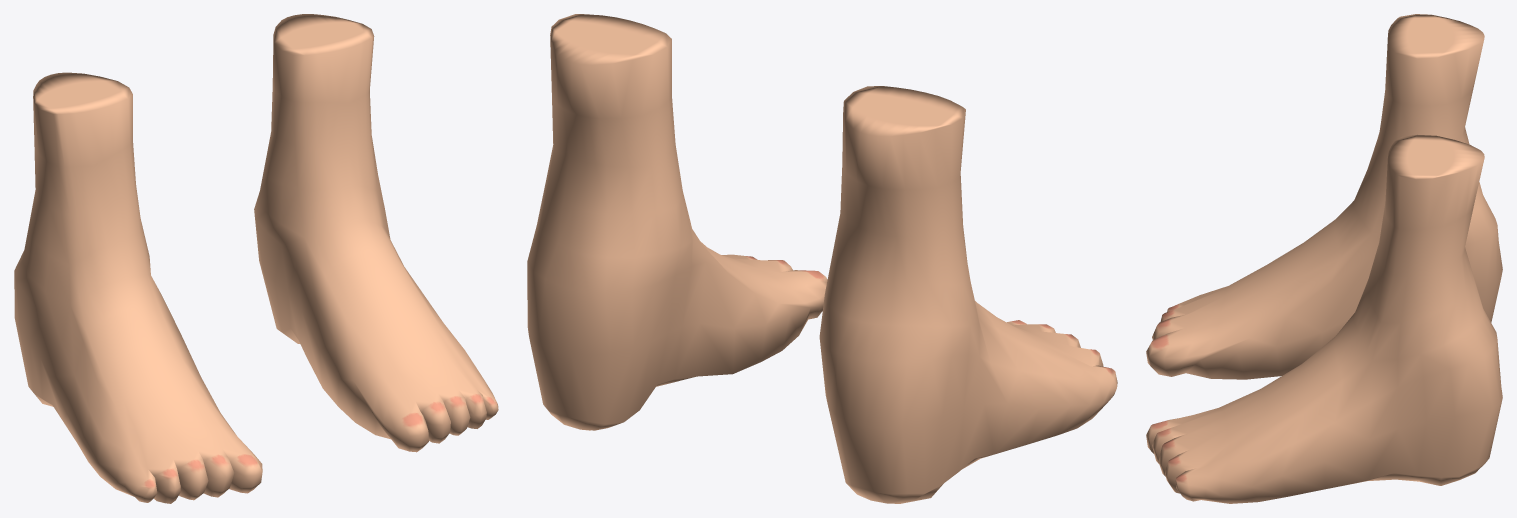
The model's file is asi3.fbx.
The picture shows the model from 3 angles, left to right: view 1: azimuth 30°, elevation 25°; view 2: azimuth 150°, elevation 25°; view 3: azimuth 270°, elevation 25°; orthographic projection. The views are drawn at different scales.
Visible parts, largest first — view 1: polySurface1, asi:polySurface91; view 2: polySurface1, asi:polySurface91; view 3: asi:polySurface91, polySurface1.
Boxes of the visible parts, x1,y1,x2,y2 form: polySurface1: (14,72,262,503); asi:polySurface91: (254,14,498,452); polySurface1: (819,86,1117,503); asi:polySurface91: (527,14,827,430); asi:polySurface91: (1146,134,1502,503); polySurface1: (1146,14,1502,379).
Bounding box in the file's own units: 74.46 × 58.97 × 59.39.
1 material, 1 textured.
